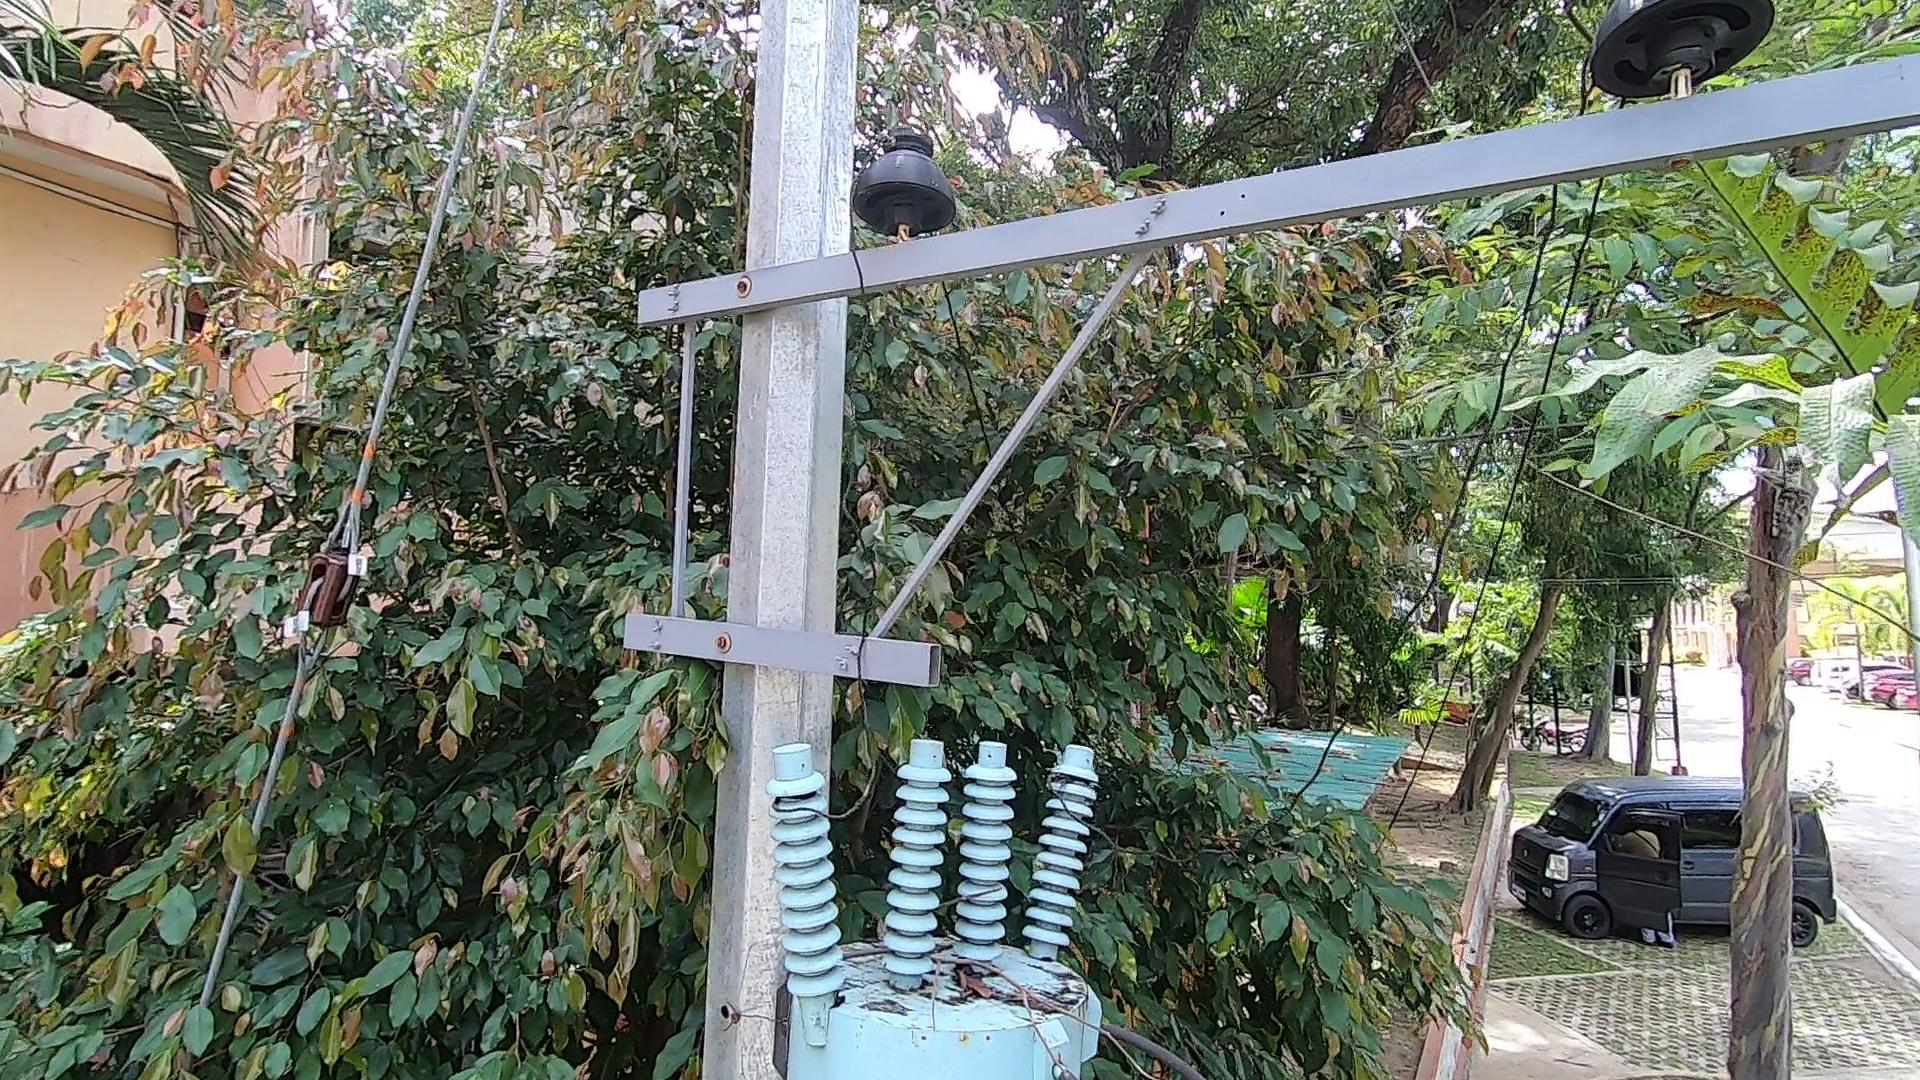leaf: (940, 953, 1002, 1005)
tree branch: (836, 927, 1170, 1080)
